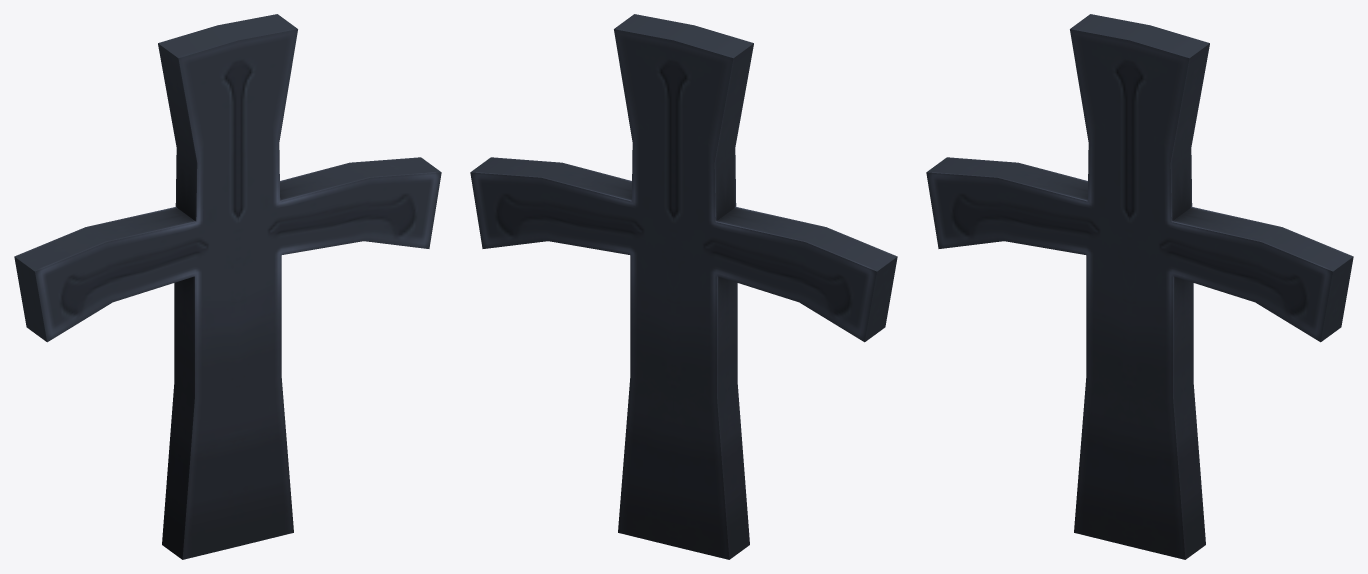
File: Grave_01.FBX
The picture shows the model from 3 angles, left to right: view 1: azimuth 30°, elevation 25°; view 2: azimuth 150°, elevation 25°; view 3: azimuth 330°, elevation 25°; orthographic projection.
Parts seen in each view (by area): view 1: Grave_01; view 2: Grave_01; view 3: Grave_01.
Part boxes in pixels (<box>): Grave_01: <box>14,14,441,559</box>; Grave_01: <box>470,14,897,559</box>; Grave_01: <box>926,14,1353,559</box>.
Size of the model in its own units: 48.47 by 57.63 by 4.26.
